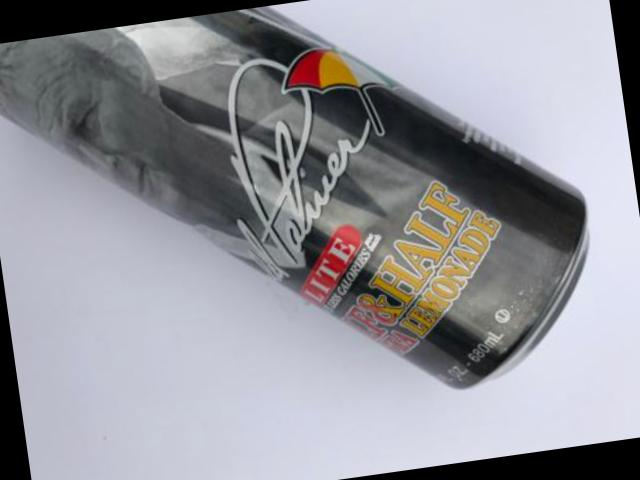metal: (0, 8, 589, 389)
